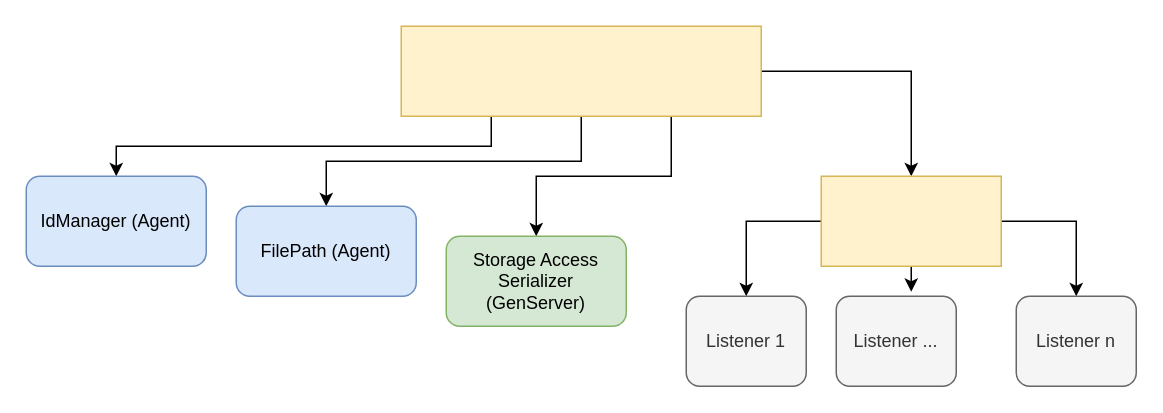
Some shapes in this 1163 by 413 pixel diagram are drawn without their labels. The box of each missing label's shape, as (x1, y1, x2, y2) in pixels:
Application Supervisor: (400, 25, 761, 116)
Phoenix Endpoint Supervisor: (820, 175, 1001, 266)
